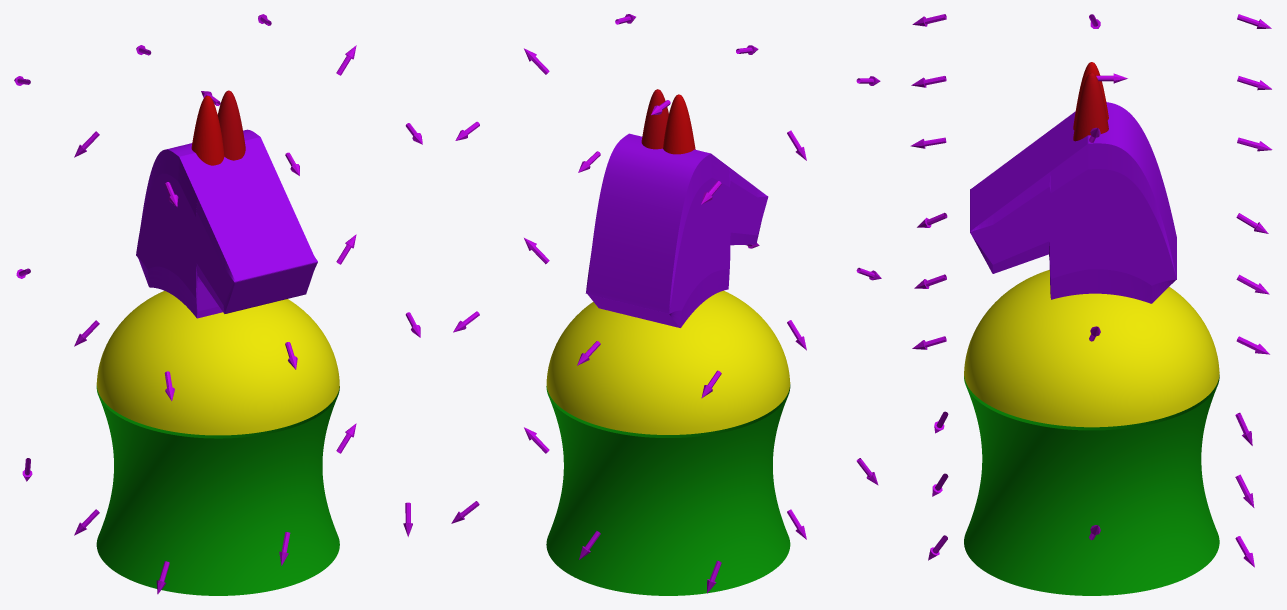
File: caballoRA3.glb
3 renders of one model, left to right at view 1: azimuth 30°, elevation 25°; view 2: azimuth 150°, elevation 25°; view 3: azimuth 270°, elevation 25°, orthographic. The views are drawn at different scales.
Parts seen in each view (by area): view 1: hiperboloide, elipsoide, cabeza, flechas, orejaL, orejaR; view 2: hiperboloide, elipsoide, cabeza, flechas, orejaL, orejaR; view 3: hiperboloide, elipsoide, cabeza, flechas, orejaR.
Part boxes in pixels (<box>): hiperboloide: <box>96,386,339,595</box>; elipsoide: <box>96,291,339,435</box>; cabeza: <box>136,129,317,318</box>; flechas: <box>14,14,422,594</box>; orejaL: <box>191,95,224,165</box>; orejaR: <box>217,90,245,160</box>; hiperboloide: <box>546,384,790,595</box>; elipsoide: <box>546,290,790,434</box>; cabeza: <box>585,133,768,327</box>; flechas: <box>451,14,881,593</box>; orejaL: <box>663,94,695,154</box>; orejaR: <box>641,89,668,149</box>; hiperboloide: <box>964,374,1219,595</box>; elipsoide: <box>964,270,1219,427</box>; cabeza: <box>970,102,1176,303</box>; flechas: <box>910,14,1272,567</box>; orejaR: <box>1073,72,1108,141</box>.
Bounding box in the file's own units: 9.39 × 14.7 × 9.93.
